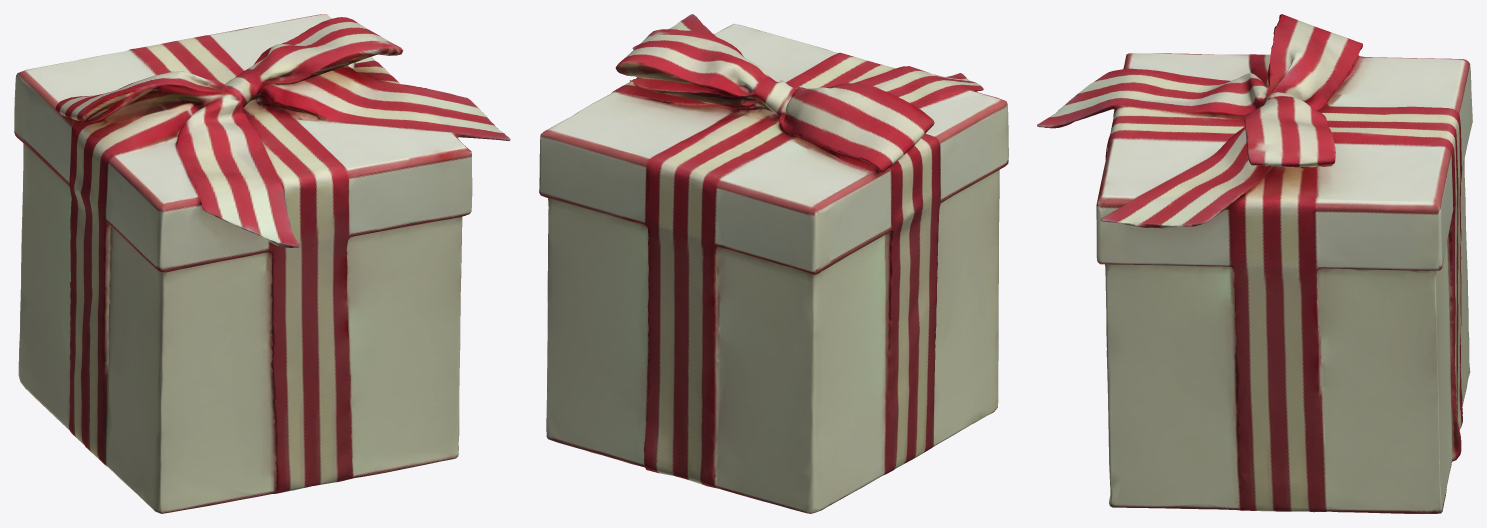
Rendered from KS_Chocolate_Cube_Box_Assortment_By_Neuhaus_2010_Ounces.glb.
3 renders of one model, left to right at view 1: azimuth 30°, elevation 25°; view 2: azimuth 150°, elevation 25°; view 3: azimuth 270°, elevation 25°, orthographic. The views are drawn at different scales.
Parts seen in each view (by area): view 1: KS_Chocolate_Cube_Box_Assortment_By_Neuhaus_2010_Ounces; view 2: KS_Chocolate_Cube_Box_Assortment_By_Neuhaus_2010_Ounces; view 3: KS_Chocolate_Cube_Box_Assortment_By_Neuhaus_2010_Ounces.
Boxes of the visible parts, x1,y1,x2,y2 form: KS_Chocolate_Cube_Box_Assortment_By_Neuhaus_2010_Ounces: (14,14,510,513); KS_Chocolate_Cube_Box_Assortment_By_Neuhaus_2010_Ounces: (539,14,1008,513); KS_Chocolate_Cube_Box_Assortment_By_Neuhaus_2010_Ounces: (1037,14,1472,513).
Bounding box in the file's own units: 0.1702 × 0.1723 × 0.1845.
Materials: 1 (1 with a texture image).
